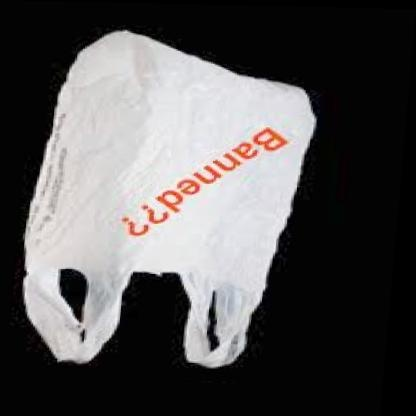trash: (24, 31, 314, 366)
